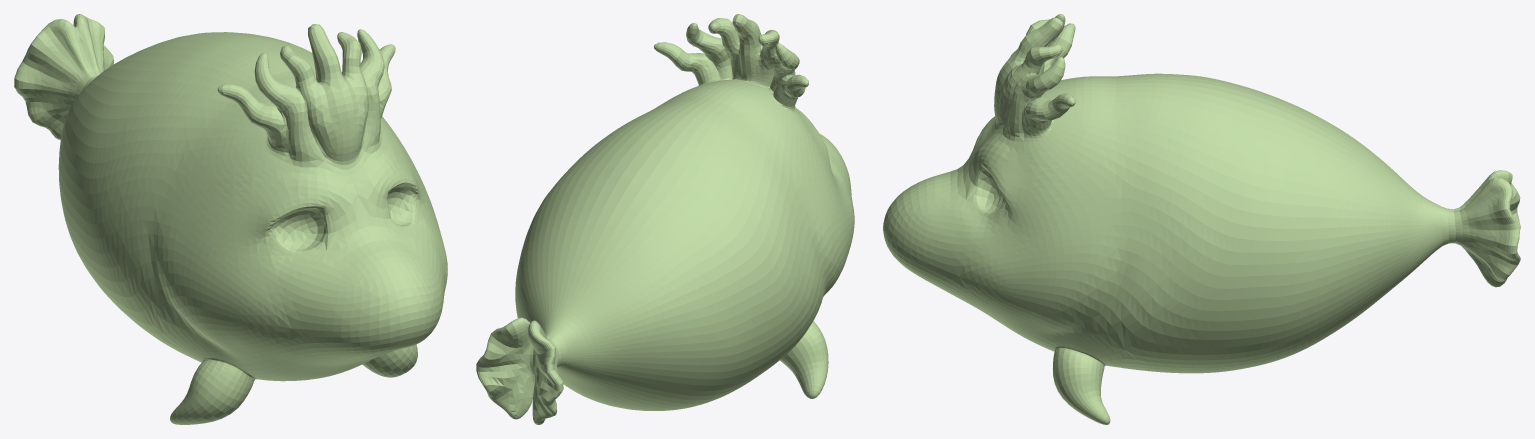
The model's file is 05_piggy_capone.glb.
3 views of the same model, side by side, from view 1: azimuth 30°, elevation 25°; view 2: azimuth 150°, elevation 25°; view 3: azimuth 270°, elevation 25° (orthographic). The views are drawn at different scales.
Visible parts, largest first — view 1: ARTBAT_DEEPSiCO_05_PiggyCapone_V4_merged_95mm_web; view 2: ARTBAT_DEEPSiCO_05_PiggyCapone_V4_merged_95mm_web; view 3: ARTBAT_DEEPSiCO_05_PiggyCapone_V4_merged_95mm_web.
Boxes of the visible parts, x1=… form: ARTBAT_DEEPSiCO_05_PiggyCapone_V4_merged_95mm_web: x1=14, y1=14, x2=447, y2=424; ARTBAT_DEEPSiCO_05_PiggyCapone_V4_merged_95mm_web: x1=476, y1=14, x2=854, y2=424; ARTBAT_DEEPSiCO_05_PiggyCapone_V4_merged_95mm_web: x1=883, y1=14, x2=1520, y2=424.
Bounding box in the file's own units: 0.0435 × 0.0587 × 0.095.
